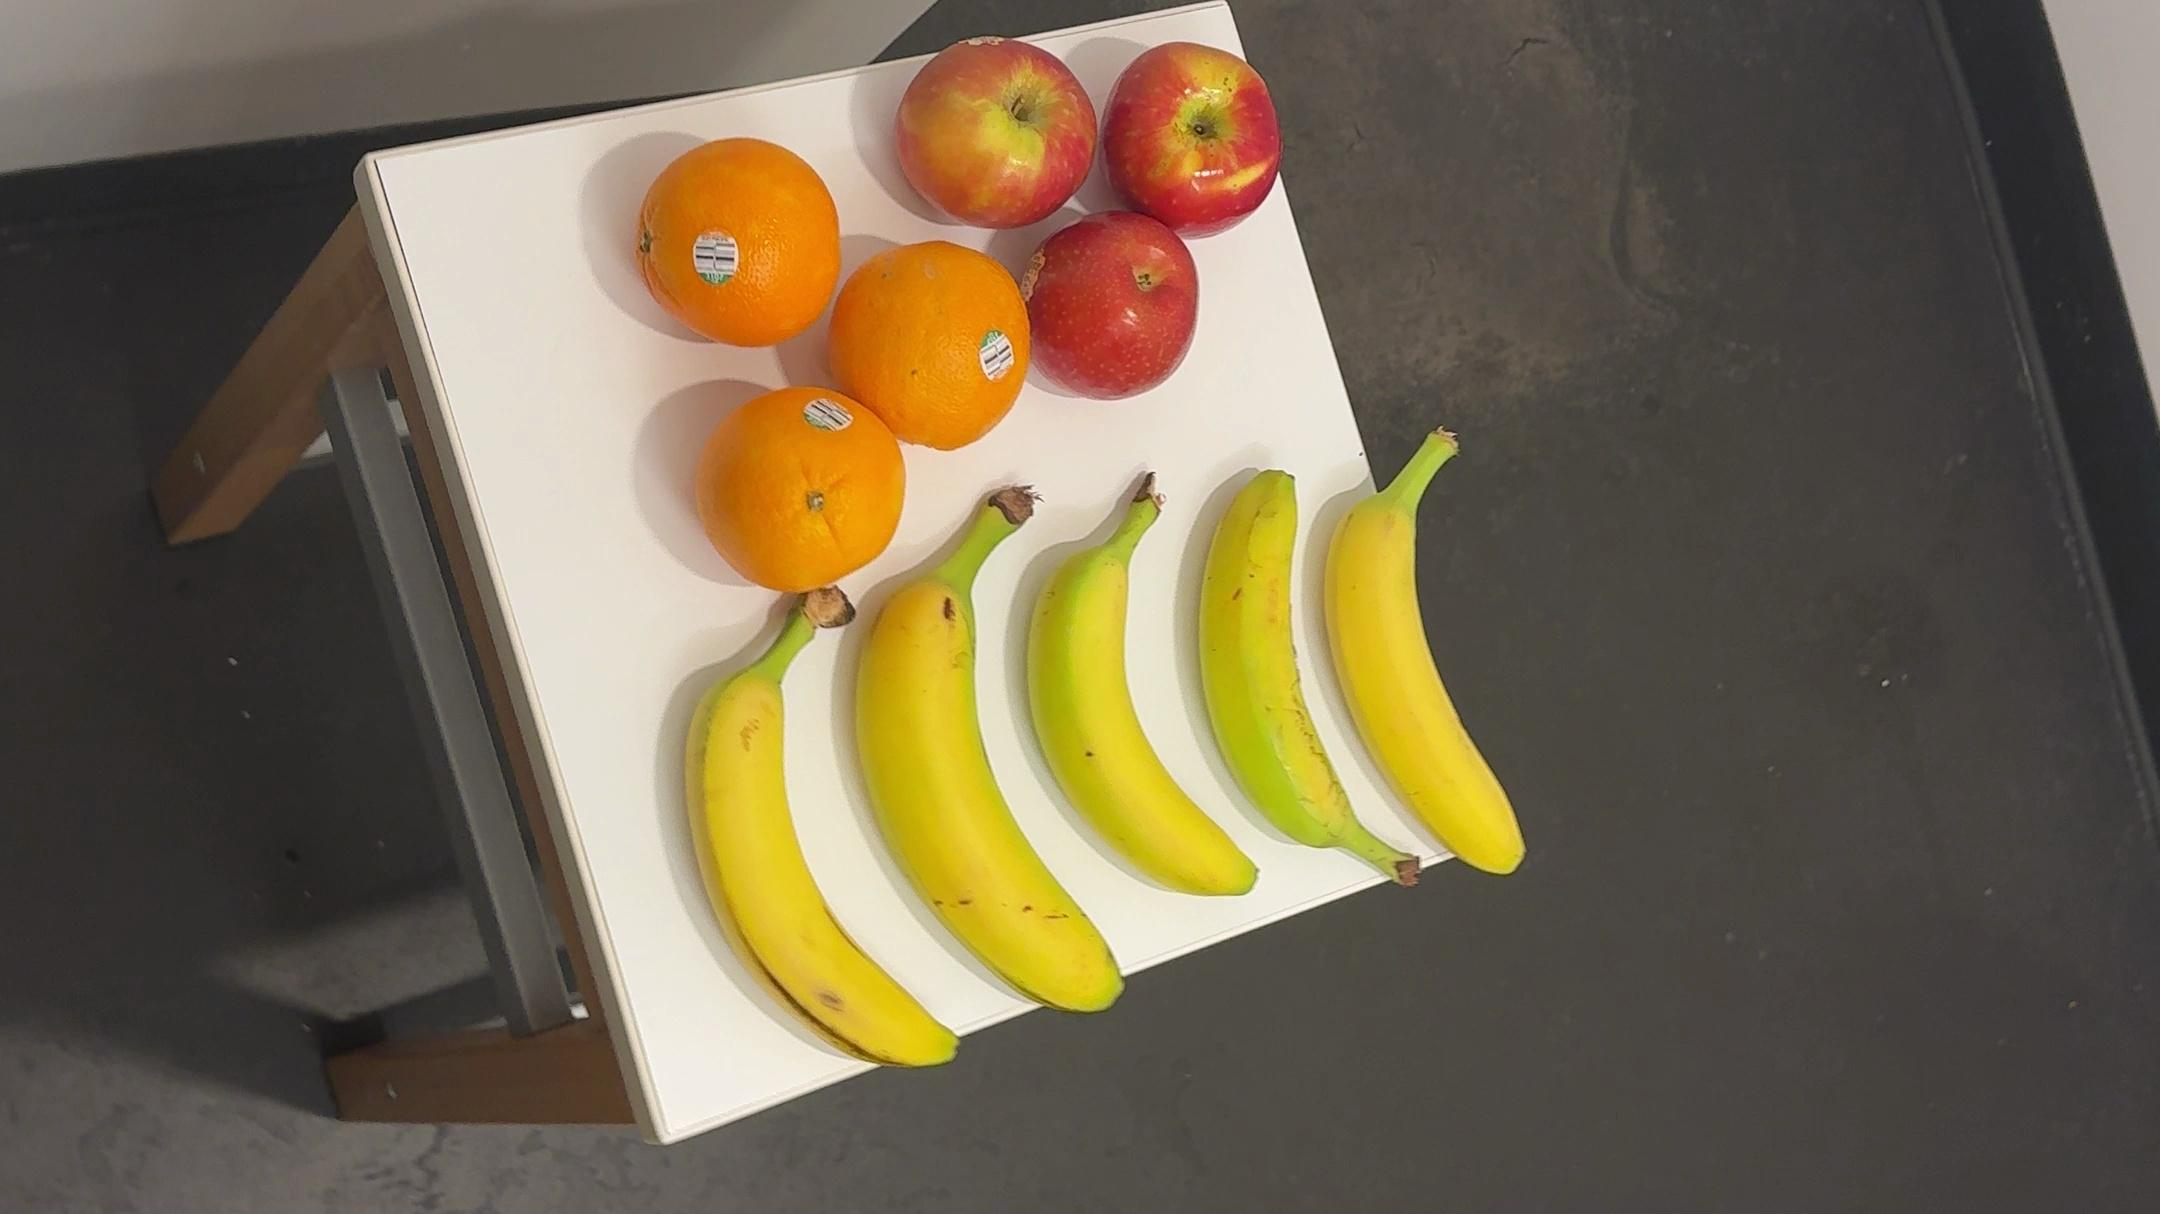apple: (898, 36, 1089, 232), (1101, 42, 1285, 230), (1035, 217, 1205, 404)
banana: (846, 473, 1139, 1026), (662, 591, 964, 1085), (1303, 421, 1550, 895), (1019, 467, 1268, 931), (1187, 465, 1417, 896)
orange: (829, 239, 1033, 457), (633, 137, 834, 352), (697, 383, 898, 597)
